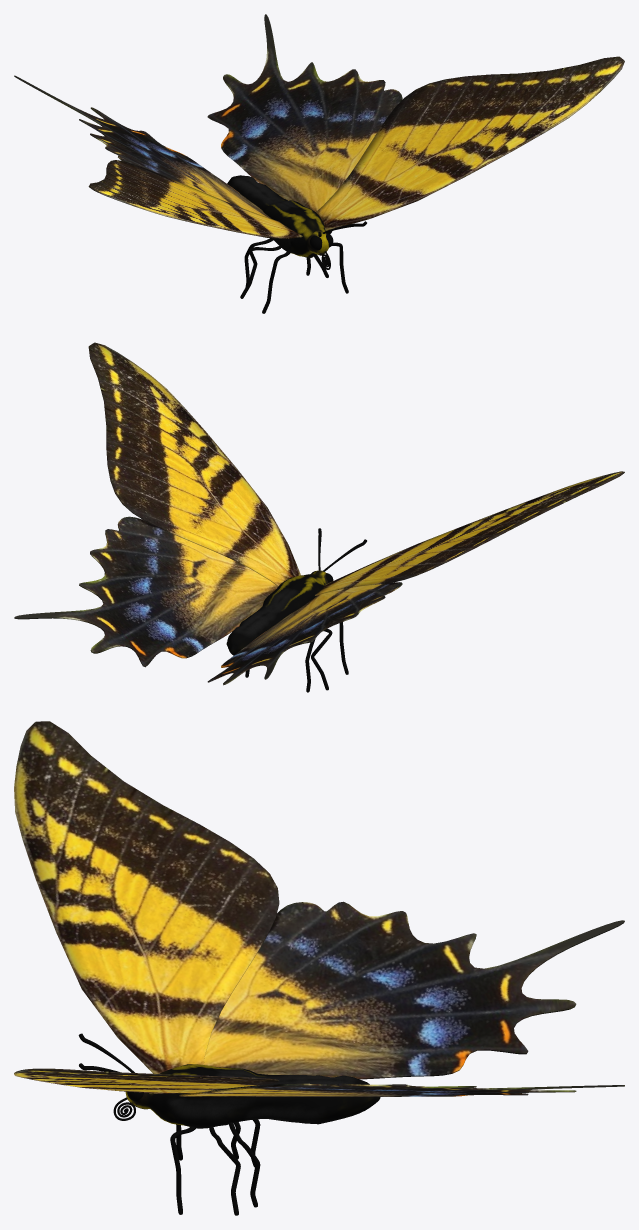
The model's file is Mariposa cometa xochiquetza.glb.
The picture shows the model from 3 angles, top to bottom: view 1: azimuth 30°, elevation 25°; view 2: azimuth 150°, elevation 25°; view 3: azimuth 270°, elevation 25°; orthographic projection. The views are drawn at different scales.
Visible parts, largest first — view 1: Papilio polyxenes; view 2: Papilio polyxenes; view 3: Papilio polyxenes.
Boxes of the visible parts, x1,y1,x2,y2 form: Papilio polyxenes: (14,14,624,313); Papilio polyxenes: (14,342,624,692); Papilio polyxenes: (14,721,624,1215).
Size of the model in its own units: 4.38 by 1.72 by 3.25.
Materials: 3 (3 with a texture image).
